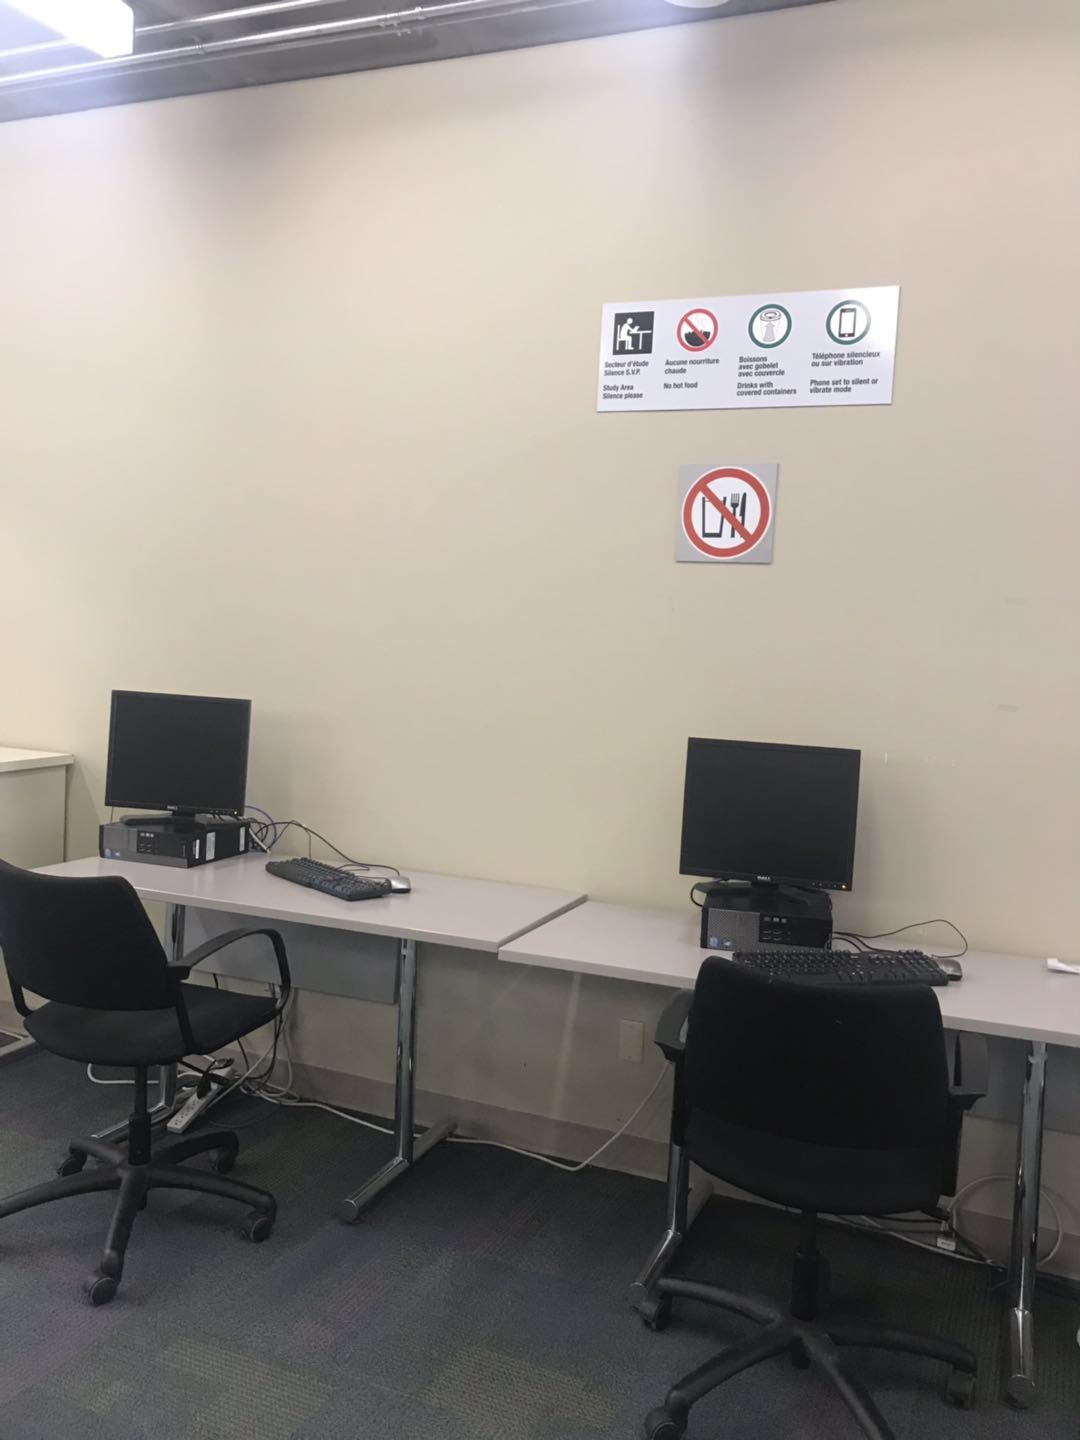sign: (594, 286, 900, 413), (670, 465, 781, 564)
tvmonitor: (681, 736, 862, 947), (99, 689, 252, 869)
